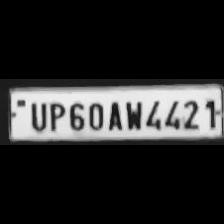0: (84, 99, 106, 130)
1: (201, 95, 221, 129)
2: (180, 96, 200, 130)
4: (160, 97, 180, 129), (143, 97, 161, 129)
6: (65, 99, 85, 131)
A: (106, 98, 122, 130)
P: (46, 100, 64, 132)
U: (25, 99, 47, 131)
W: (122, 97, 142, 130)
